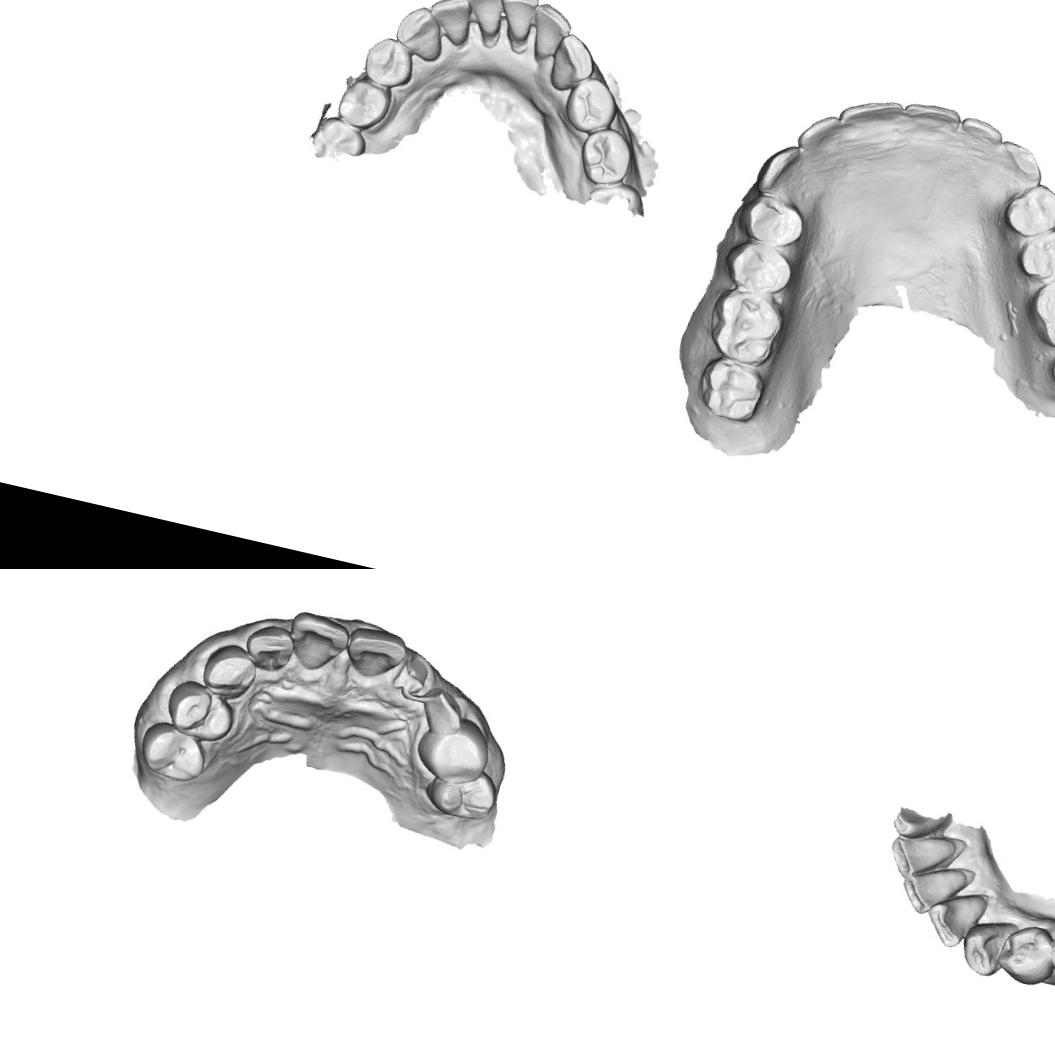canine: (954, 908, 1020, 984), (197, 637, 263, 704), (389, 0, 451, 66), (751, 138, 812, 204), (544, 29, 602, 98), (989, 136, 1048, 196)
incisor: (894, 854, 972, 922), (281, 608, 354, 679), (920, 886, 992, 954), (883, 824, 961, 886), (342, 621, 412, 686), (836, 89, 906, 150), (894, 94, 964, 153), (240, 618, 299, 676), (524, 0, 577, 64), (793, 107, 845, 168), (420, 0, 478, 51), (954, 113, 1008, 158), (489, 0, 541, 45), (456, 0, 511, 40)
molar: (700, 281, 790, 369), (690, 349, 772, 429), (306, 112, 372, 168), (1019, 261, 1055, 354), (1037, 332, 1055, 412)
premolar: (411, 708, 497, 792), (133, 716, 216, 788), (161, 675, 242, 747), (420, 758, 503, 828), (718, 232, 799, 300), (732, 188, 812, 253), (558, 70, 624, 140), (573, 122, 638, 192), (332, 73, 396, 136), (996, 923, 1055, 991), (997, 174, 1055, 242), (358, 32, 420, 92), (1010, 219, 1055, 288), (1040, 915, 1055, 993)
